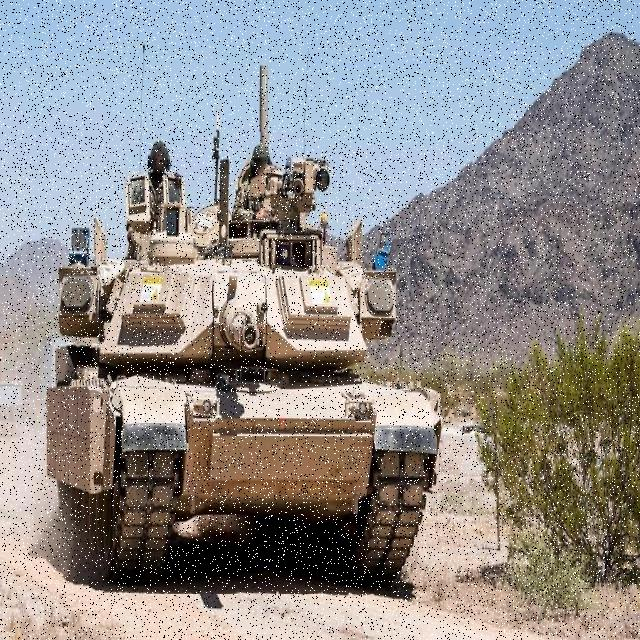MIL_MBT: (40, 133, 452, 575)
